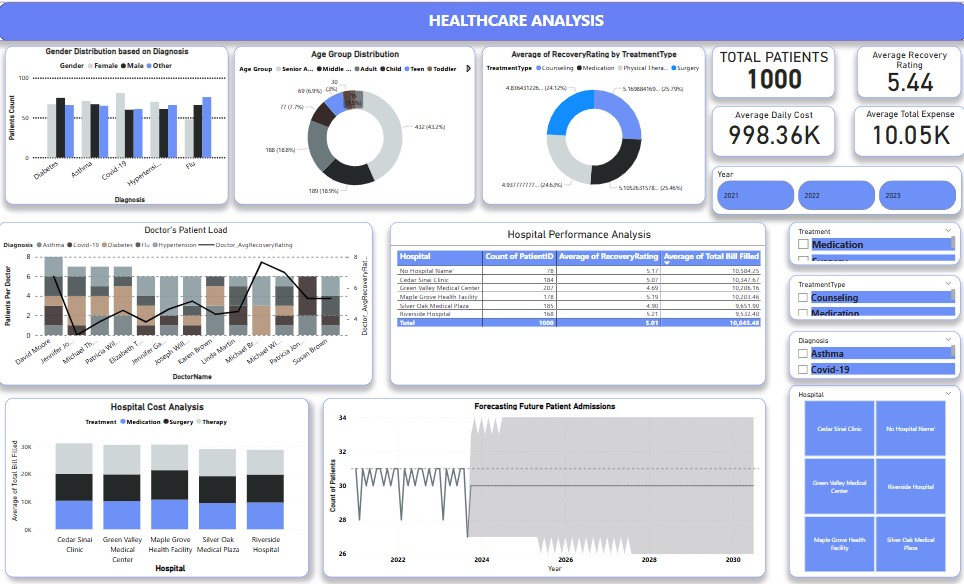

What the dashboard file says about the page in this screenshot:
{"tool":"powerbi","page":{"name":"Dashboard","canvas":[2001,1218],"ordinal":11},"visuals":[{"type":"shape","box":[0,10.4,2000.2,79.7],"z":0},{"type":"textbox","box":[0,20.3,1600.1,59.6],"z":1000},{"type":"clusteredColumnChart","title":"Gender Distribution based on Diagnosis","fields":{"Category":["Sheet1.Diagnosis"],"Y":["Sheet1.PatientID"],"Series":["Sheet1.Gender"]},"box":[14.5,101.7,460.7,327],"z":2000},{"type":"donutChart","title":"Age Group Distribution","fields":{"Category":["Sheet1.Age Group"],"Y":["Sheet1.PatientID"]},"box":[486.9,101.7,498.5,327],"z":3000},{"type":"card","title":"TOTAL PATIENTS","fields":{"Values":["Sheet1.PatientID"]},"box":[1473.2,101.4,253.5,107],"z":4000},{"type":"card","title":"Average Daily Cost","fields":{"Values":["Sheet1.DailyCost"]},"box":[1473.9,224.6,253.6,104.3],"z":5000},{"type":"card","title":"Average Total Expense","fields":{"Values":["Sheet1.Total Bill Filled"]},"box":[1766.2,225.4,231,104.2],"z":6000},{"type":"card","title":"Average Recovery Rating","fields":{"Values":["Sheet1 (2).RecoveryRating"]},"box":[1773.2,101.4,215.5,107],"z":7000},{"type":"donutChart","fields":{"Category":["Sheet1.TreatmentType"],"Y":["Sheet1.RecoveryRating"]},"box":[1000,101.4,460.6,326.8],"z":8000},{"type":"advancedSlicerVisual","fields":{"Values":["Sheet1.AdmissionDate.Variation.Date Hierarchy.Year"]},"box":[1473.2,349.3,515.5,100],"z":9000},{"type":"lineStackedColumnComboChart","title":"Doctor''s Patient Load","fields":{"Category":["Sheet1.DoctorName"],"Y":["Sheet1.PatientsPerDoctor"],"Y2":["Sheet1.Doctor_AvgRecoveryRating"],"Series":["Sheet1.Diagnosis"]},"box":[0,464.3,773.5,336.7],"z":10000},{"type":"tableEx","title":"Hospital Performance Analysis ","fields":{"Values":["Sheet1.Hospital","Sheet1.PatientID","Sheet1.RecoveryRating","Sheet1.Total Bill Filled"]},"box":[809.9,464.8,776.1,336.6],"z":11000},{"type":"slicer","fields":{"Values":["Sheet1.Hospital"]},"box":[1632.4,801.4,353.5,397.2],"z":12000},{"type":"slicer","fields":{"Values":["Sheet1.Treatment"]},"box":[1632.4,464.8,353.5,88.7],"z":13000},{"type":"slicer","fields":{"Values":["Sheet1.TreatmentType"]},"box":[1632.4,574.6,353.5,93],"z":14000},{"type":"slicer","fields":{"Values":["Sheet1.Diagnosis"]},"box":[1632.4,690.1,353.5,98.6],"z":15000},{"type":"lineStackedColumnComboChart","title":"Hospital Cost Analysis","fields":{"Category":["Sheet1.Hospital"],"Series":["Sheet1.Treatment"],"Y":["Sheet1.Total Bill Filled"]},"box":[14.1,828.2,626.8,370.4],"z":16000},{"type":"lineChart","title":"Forecasting Future Patient Admissions","fields":{"Y":["Sheet1.PatientName"],"Category":["Sheet1.AdmissionDate.Variation.Date Hierarchy.Year","Sheet1.AdmissionDate.Variation.Date Hierarchy.Quarter","Sheet1.AdmissionDate.Variation.Date Hierarchy.Month"]},"box":[671.8,828.2,914.1,370.4],"z":17000}]}

Visuals, with their boxes in screenshot pixels (x1, y1, x2, y2), scaled from the page's 2001x1218 canvas onto the 964x584 screenshot:
shape: {"x1": 0, "y1": 5, "x2": 963, "y2": 43}
textbox: {"x1": 0, "y1": 10, "x2": 771, "y2": 38}
"Gender Distribution based on Diagnosis" clusteredColumnChart: {"x1": 7, "y1": 49, "x2": 229, "y2": 206}
"Age Group Distribution" donutChart: {"x1": 235, "y1": 49, "x2": 475, "y2": 206}
"TOTAL PATIENTS" card: {"x1": 710, "y1": 49, "x2": 832, "y2": 100}
"Average Daily Cost" card: {"x1": 710, "y1": 108, "x2": 832, "y2": 158}
"Average Total Expense" card: {"x1": 851, "y1": 108, "x2": 962, "y2": 158}
"Average Recovery Rating" card: {"x1": 854, "y1": 49, "x2": 958, "y2": 100}
donutChart - Sheet1.TreatmentType x Sheet1.RecoveryRating: {"x1": 482, "y1": 49, "x2": 704, "y2": 205}
advancedSlicerVisual - Sheet1.AdmissionDate.Variation.Date Hierarchy.Year: {"x1": 710, "y1": 167, "x2": 958, "y2": 215}
"Doctor''s Patient Load" lineStackedColumnComboChart: {"x1": 0, "y1": 223, "x2": 373, "y2": 384}
"Hospital Performance Analysis " tableEx: {"x1": 390, "y1": 223, "x2": 764, "y2": 384}
slicer - Sheet1.Hospital: {"x1": 786, "y1": 384, "x2": 957, "y2": 575}
slicer - Sheet1.Treatment: {"x1": 786, "y1": 223, "x2": 957, "y2": 265}
slicer - Sheet1.TreatmentType: {"x1": 786, "y1": 276, "x2": 957, "y2": 320}
slicer - Sheet1.Diagnosis: {"x1": 786, "y1": 331, "x2": 957, "y2": 378}
"Hospital Cost Analysis" lineStackedColumnComboChart: {"x1": 7, "y1": 397, "x2": 309, "y2": 575}
"Forecasting Future Patient Admissions" lineChart: {"x1": 324, "y1": 397, "x2": 764, "y2": 575}
